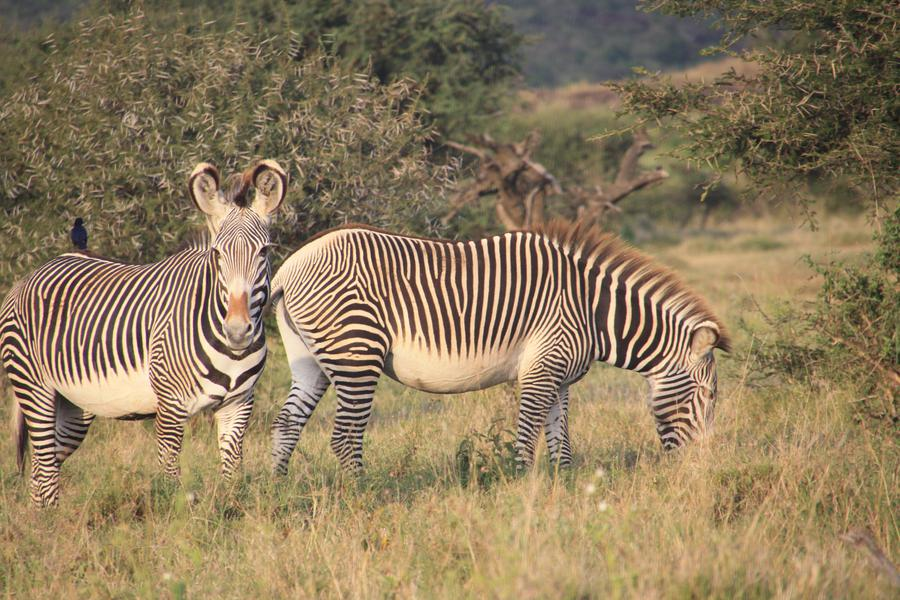zebra_grevys: (282, 217, 581, 388)
